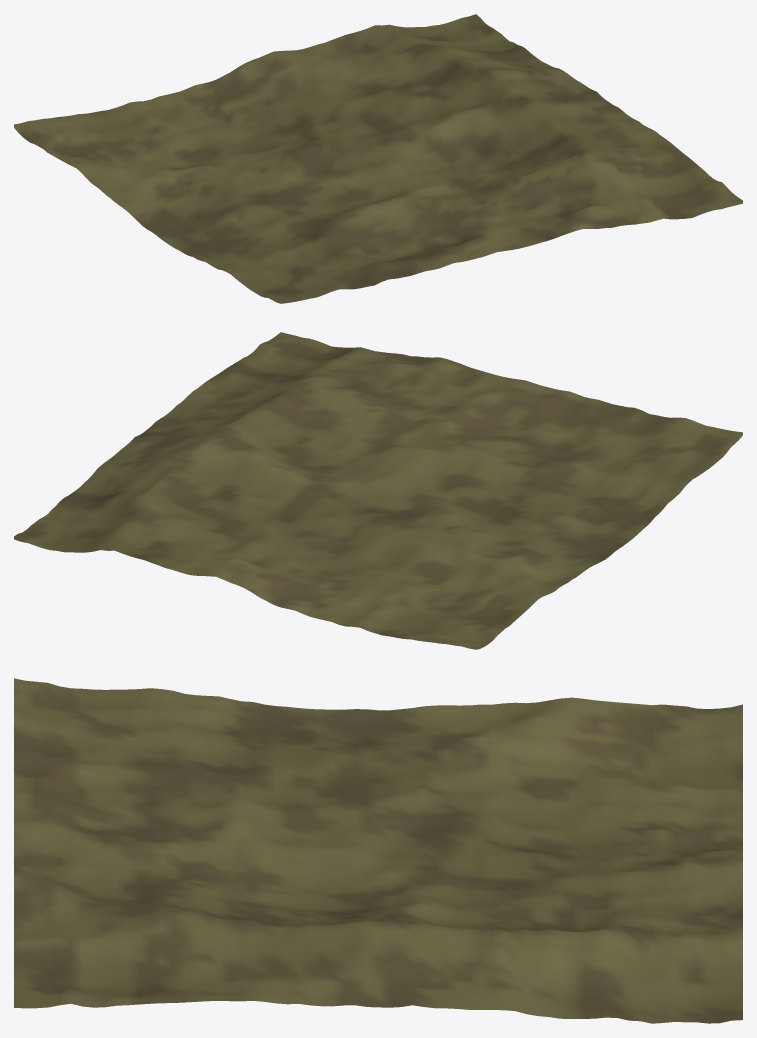
The model's file is land_f_08_09.glb.
The picture shows the model from 3 angles, top to bottom: view 1: azimuth 30°, elevation 25°; view 2: azimuth 150°, elevation 25°; view 3: azimuth 270°, elevation 25°; orthographic projection. The views are drawn at different scales.
Parts seen in each view (by area): view 1: land_f_08_09; view 2: land_f_08_09; view 3: land_f_08_09.
Part boxes in pixels (bbox=[...]): land_f_08_09: bbox=[14, 14, 742, 303]; land_f_08_09: bbox=[14, 332, 742, 649]; land_f_08_09: bbox=[14, 678, 742, 1023].
Bounding box in the file's own units: 3840 × 319 × 3840.
